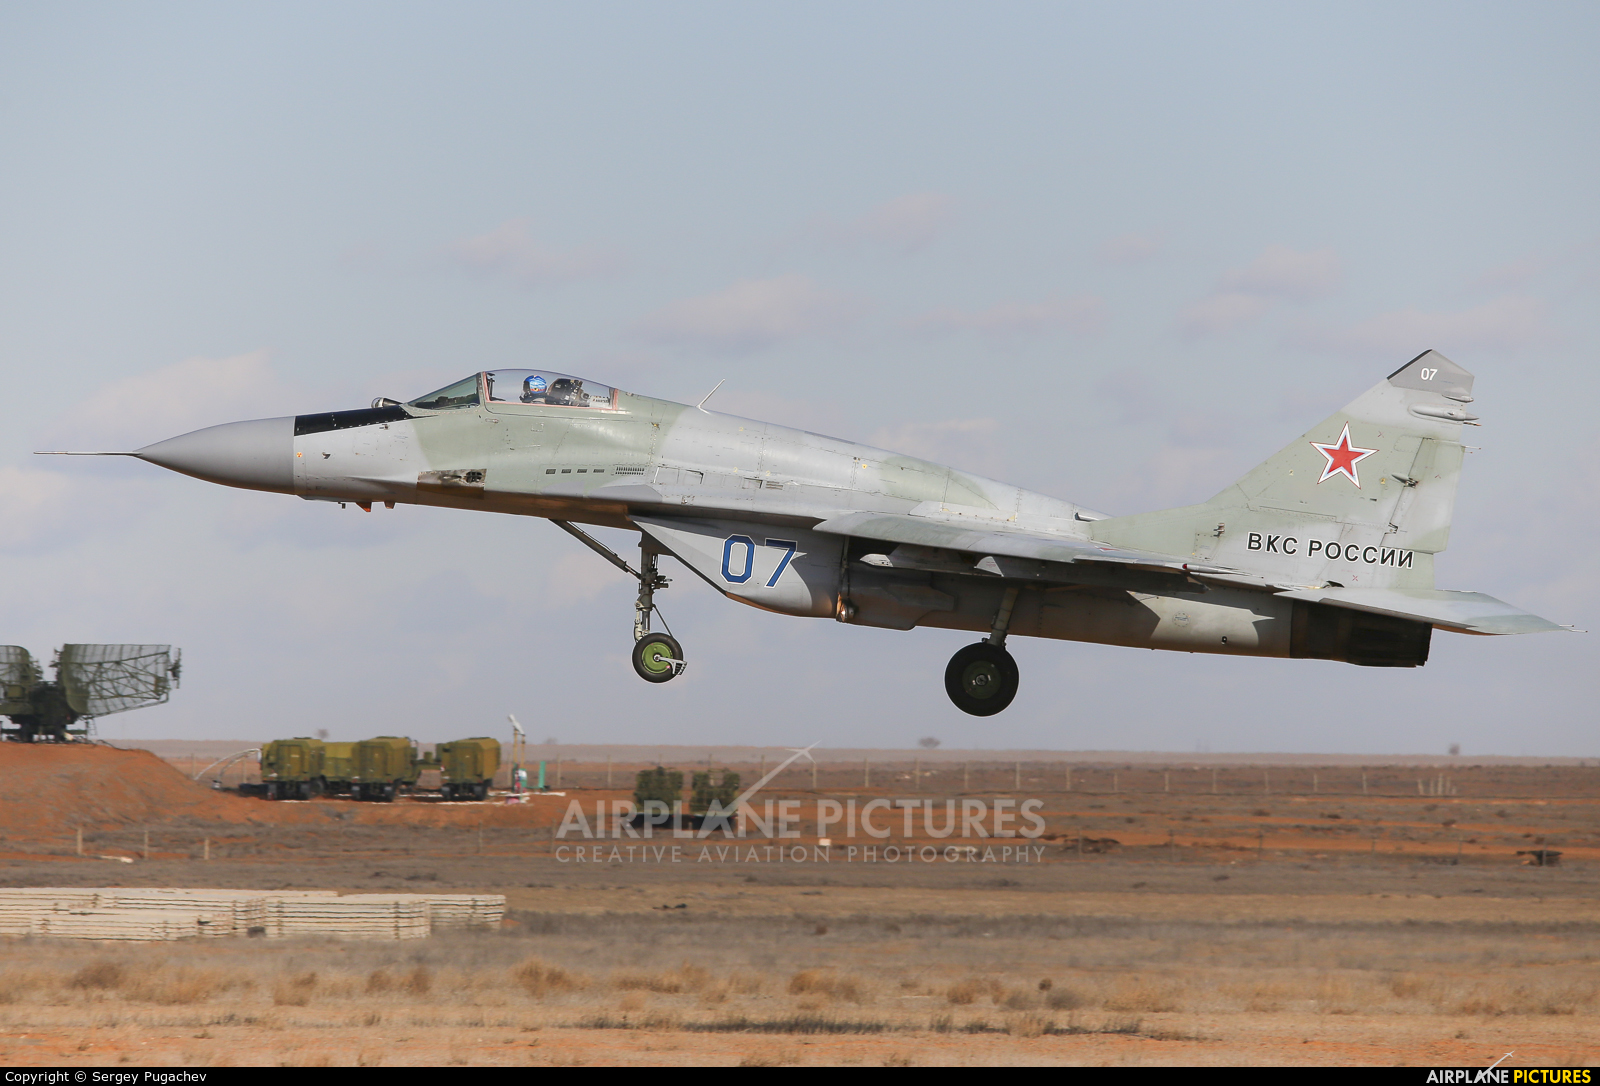Mig-29: (42, 239, 1565, 794)
